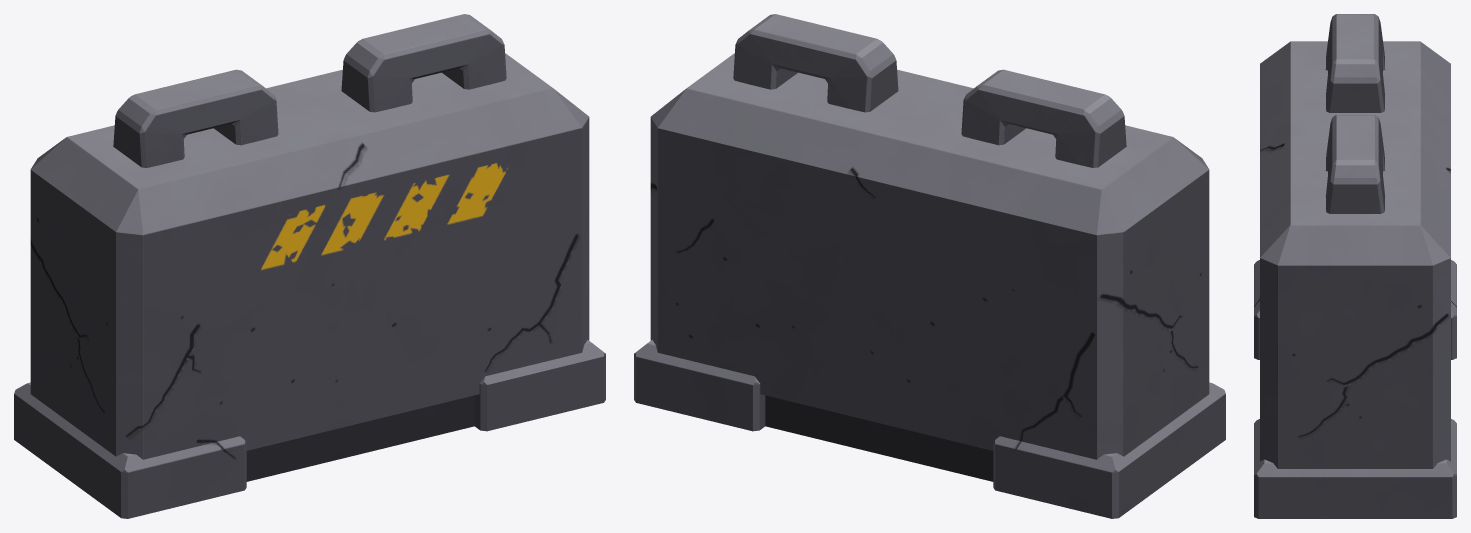
Rendered from Cover_Barrier_Intact.fbx.
The picture shows the model from 3 angles, left to right: view 1: azimuth 30°, elevation 25°; view 2: azimuth 150°, elevation 25°; view 3: azimuth 270°, elevation 25°; orthographic projection. The views are drawn at different scales.
Visible parts, largest first — view 1: Cover_Barrier_Intact; view 2: Cover_Barrier_Intact; view 3: Cover_Barrier_Intact.
Part boxes in pixels (x1,y1,x2,y2): Cover_Barrier_Intact: (14,14,605,518); Cover_Barrier_Intact: (634,14,1225,518); Cover_Barrier_Intact: (1254,14,1456,518).
Size of the model in its own units: 1.7 by 1.2 by 0.68.
1 material, 1 textured.
